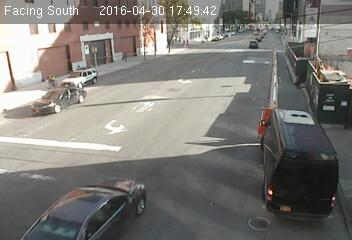neg: (228, 52, 264, 100)
pos: (40, 68, 58, 93)
